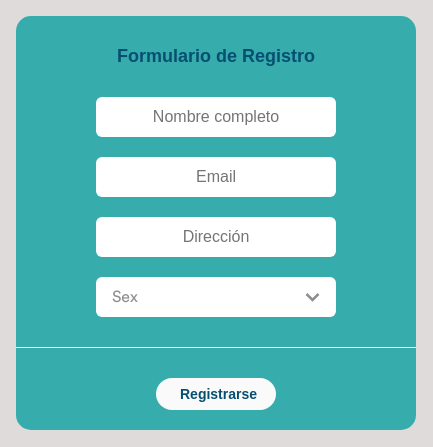
Test case: Register Form › Submit button is enabled when all required fields are completed
In the field with test id "emailInput": x=216, y=177 [96,157,336,197], type "user@test.com"
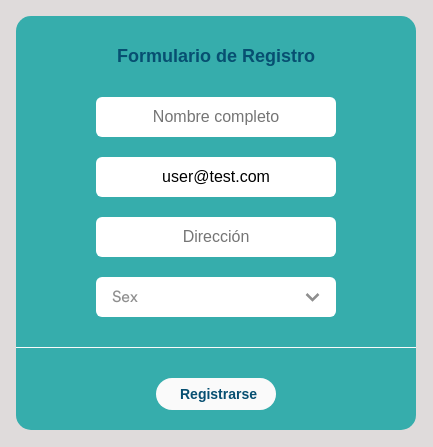
In the field with test id "nameInput": x=216, y=117 [96,97,336,137], type "Test 12345"
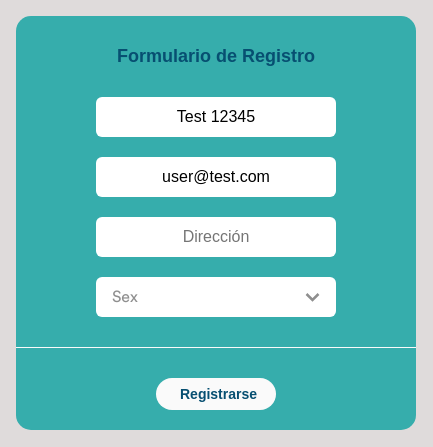
In the field with test id "addressInput": x=216, y=237 [96,217,336,257], type "Some address"
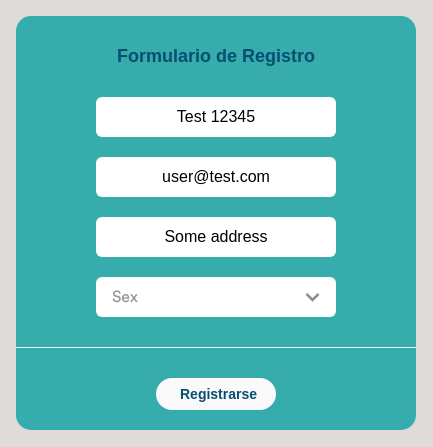
Click the button with test id "sexDropdown": x=216, y=297 [96,277,336,317]
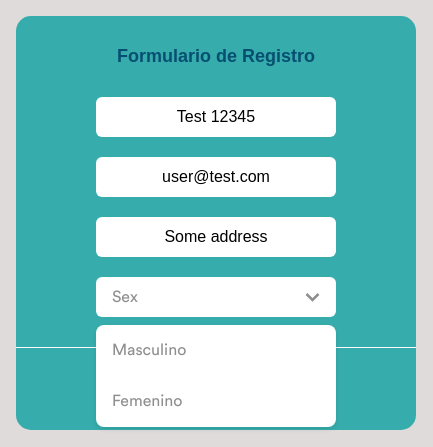
Click the link "Masculino": x=149, y=350 [112,342,186,358]
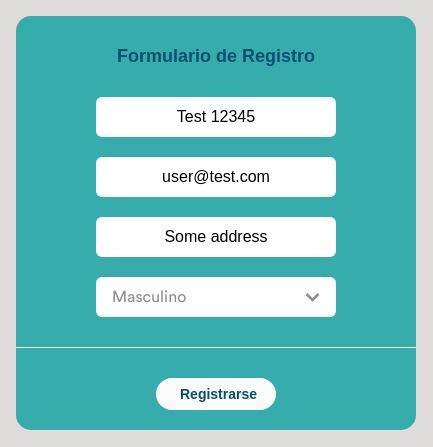
Check: the button with test id "buttonSubmit" is enabled, box [156,378,276,410]
